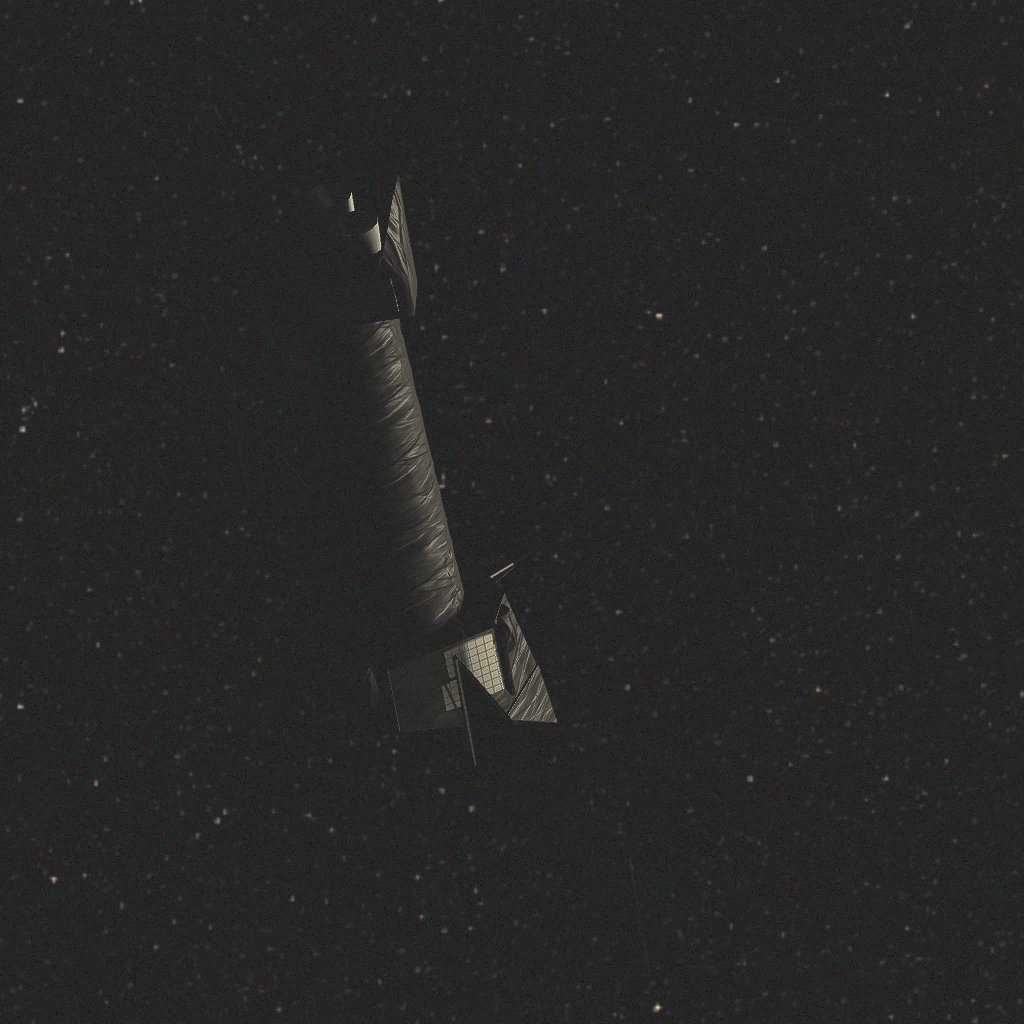xmm_newton: (183, 137, 649, 967)
